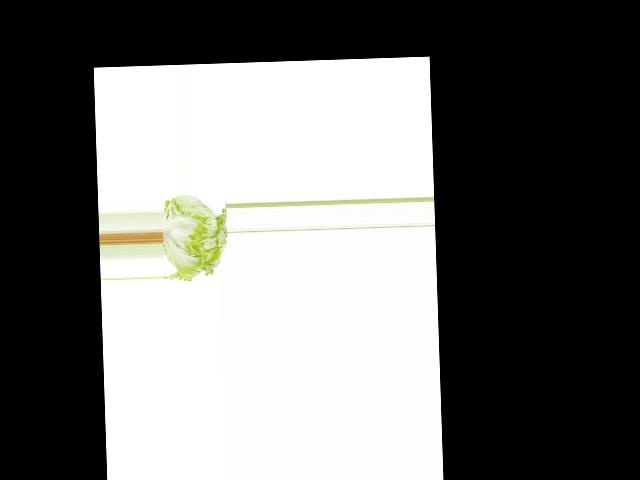lettuce: (160, 191, 228, 285)
